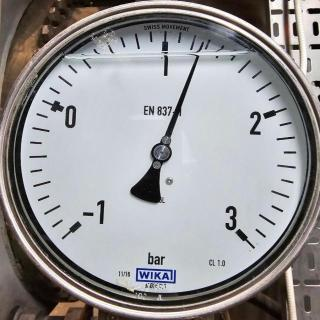gauge: (0, 0, 320, 320), (58, 195, 110, 249), (221, 212, 255, 248), (150, 141, 172, 163), (197, 38, 207, 52)
